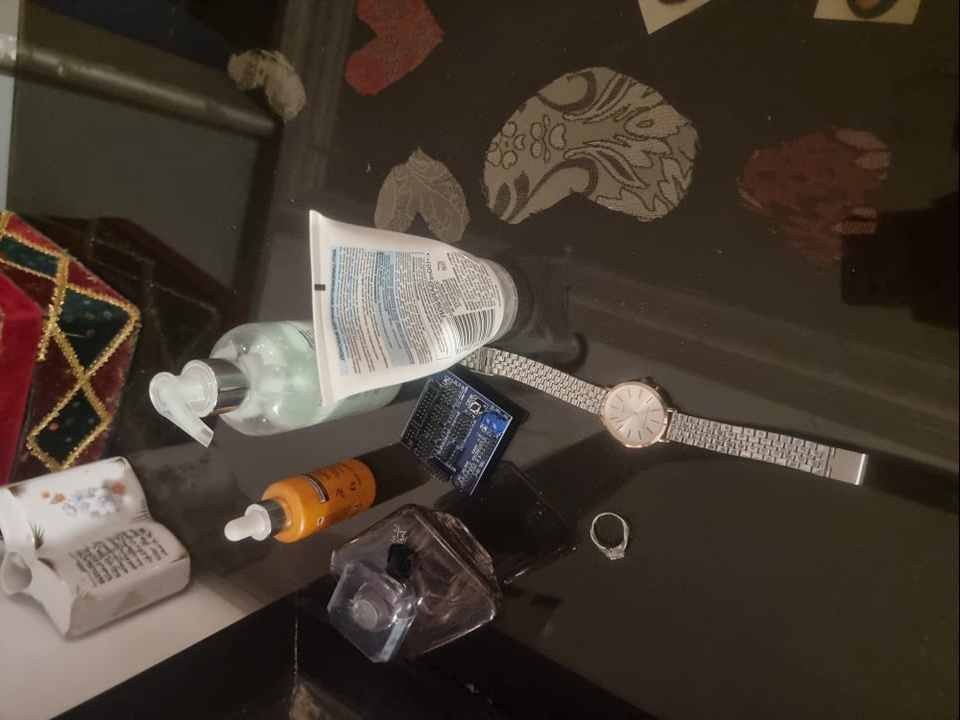5V EXPANSION: (402, 373, 518, 495)
